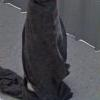Statue: (15, 3, 88, 90)
